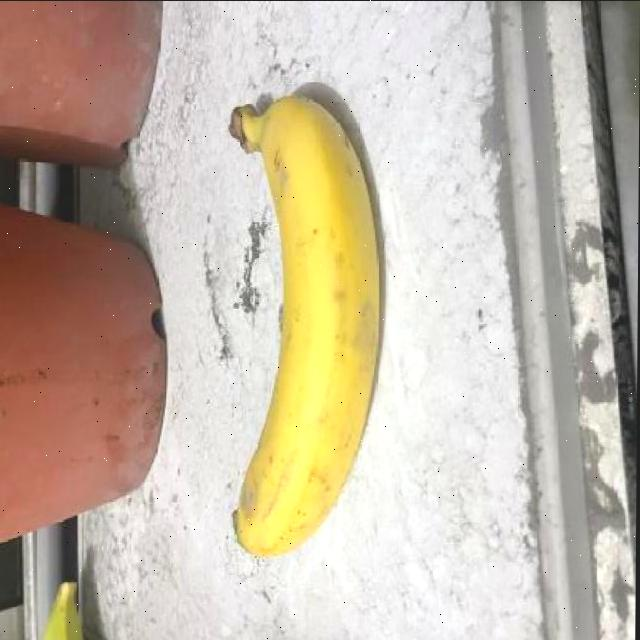banana: (217, 80, 390, 554)
